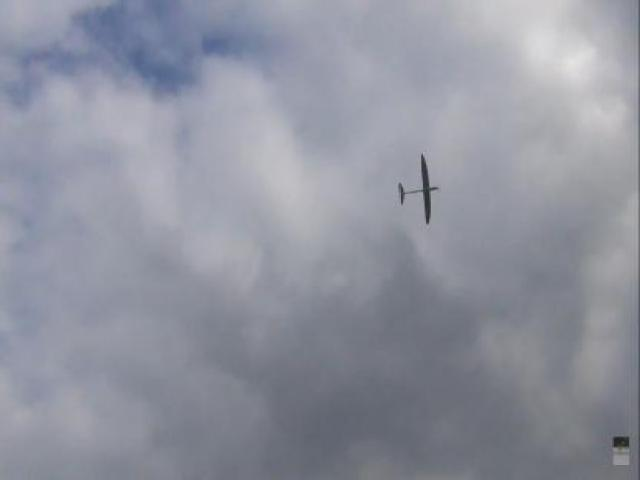uav: (392, 149, 443, 230)
